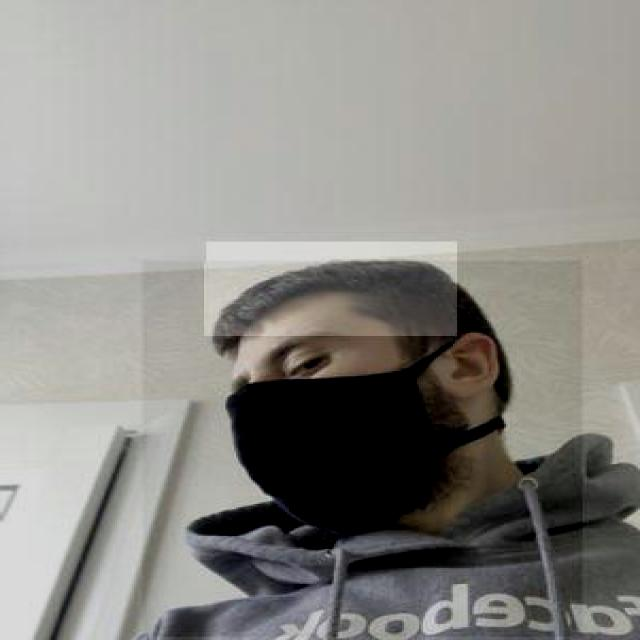face_mask: (230, 318, 425, 532)
head_nohelmet: (204, 242, 457, 336)
person: (140, 261, 583, 638)
